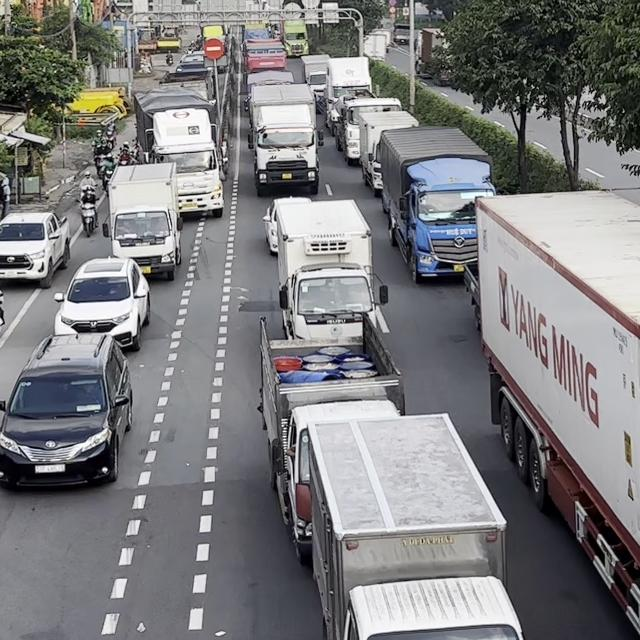car: (0, 331, 133, 490), (53, 255, 151, 351), (0, 210, 71, 288), (262, 195, 312, 254)
motorcycle: (76, 198, 97, 237), (99, 164, 114, 192), (139, 52, 152, 74), (0, 281, 5, 327), (165, 52, 173, 65)
truck: (464, 188, 639, 639), (293, 404, 519, 639), (258, 316, 414, 565), (376, 125, 497, 283), (274, 197, 390, 341), (133, 88, 225, 218), (101, 161, 183, 281), (248, 83, 322, 196), (358, 109, 419, 196), (333, 96, 402, 165), (323, 55, 374, 134), (300, 52, 330, 113), (282, 18, 309, 57)
